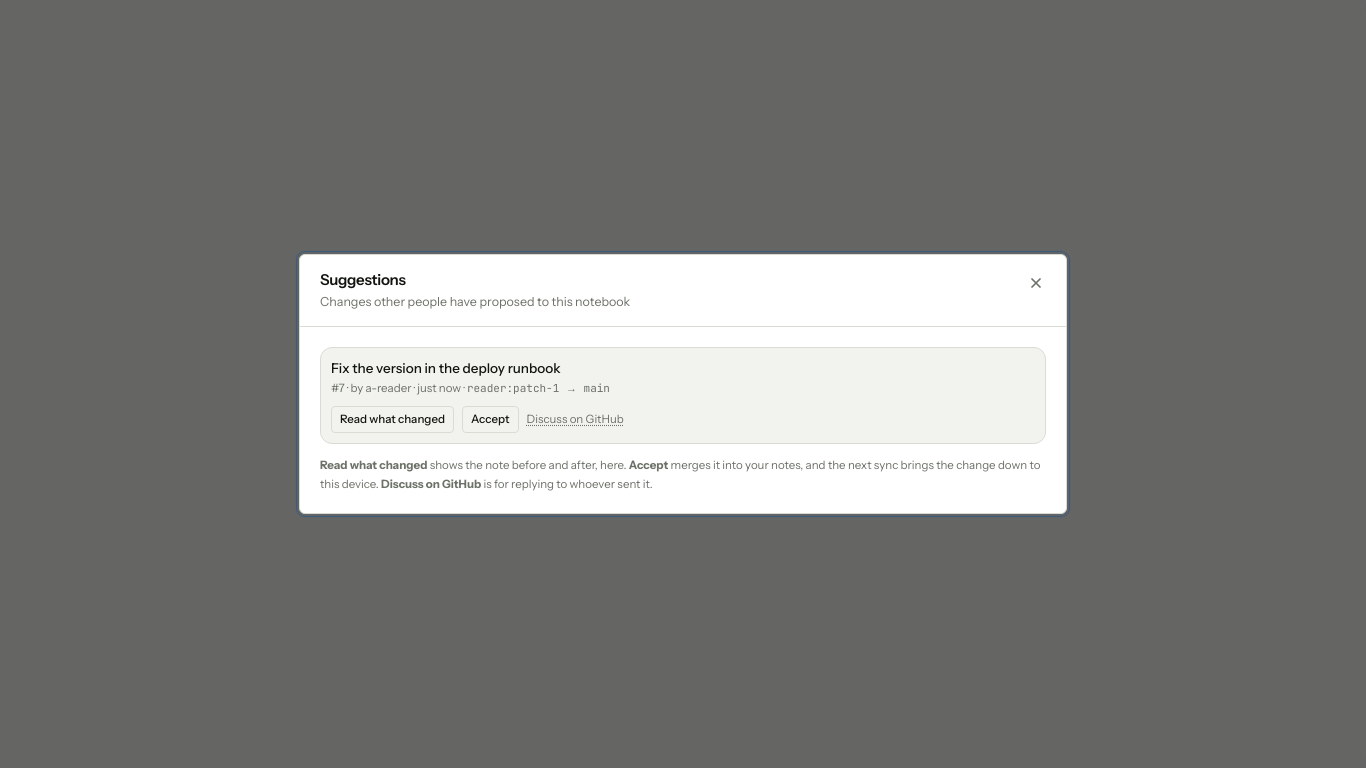
SuggestionsDialog — accepting one › passes GitHub's own words on when it refuses
Click the button "Accept" at (490, 419), box [462, 406, 518, 433]
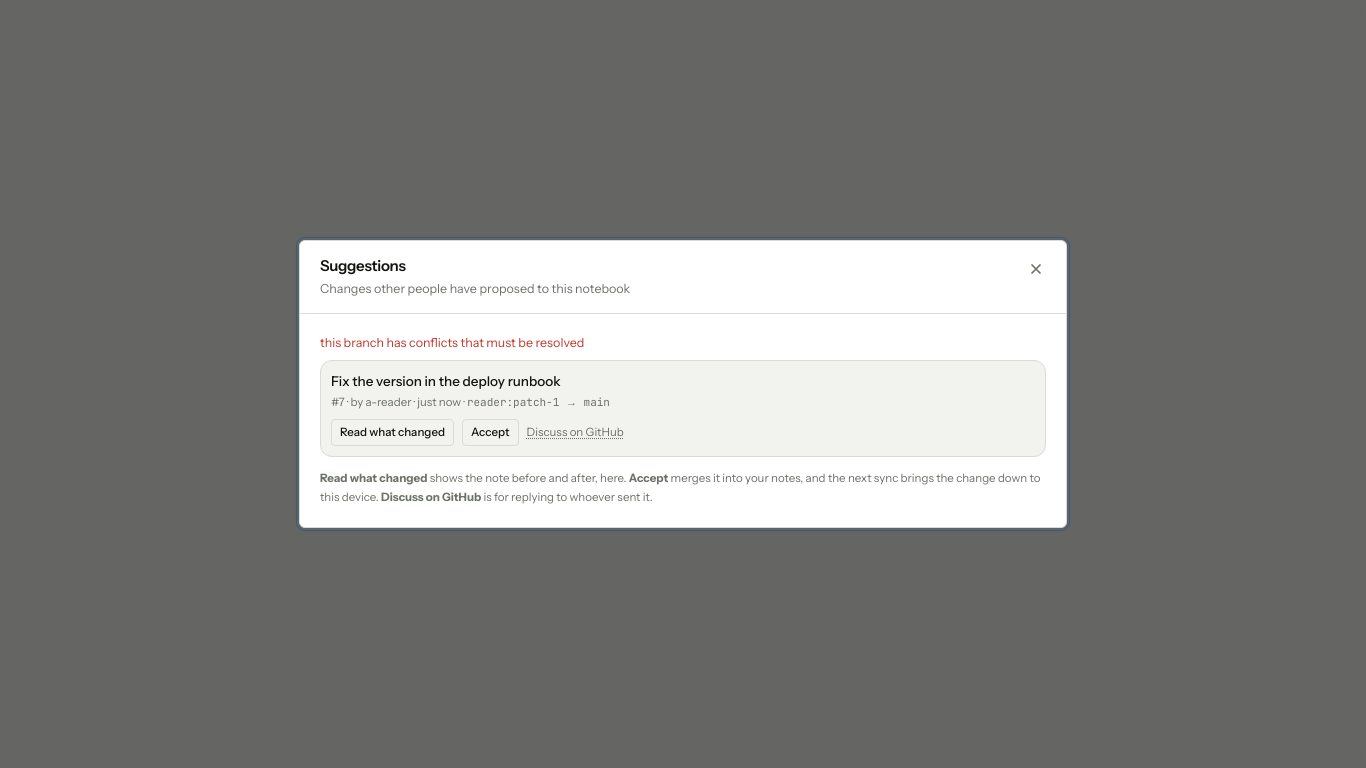
Result: the text "this branch has conflicts that must be resolved" is shown at [320, 335, 584, 350]
